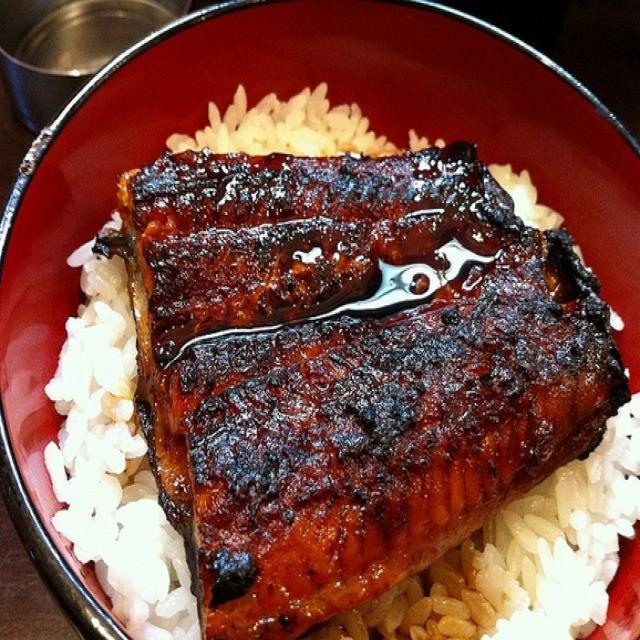熟制海鲜: (1, 5, 631, 634)
